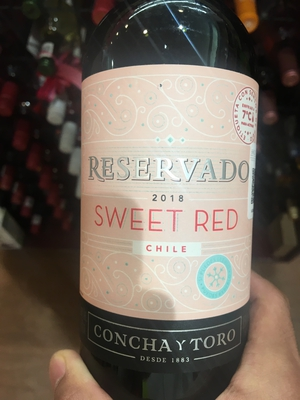reservado sweet red: (76, 6, 269, 385)
